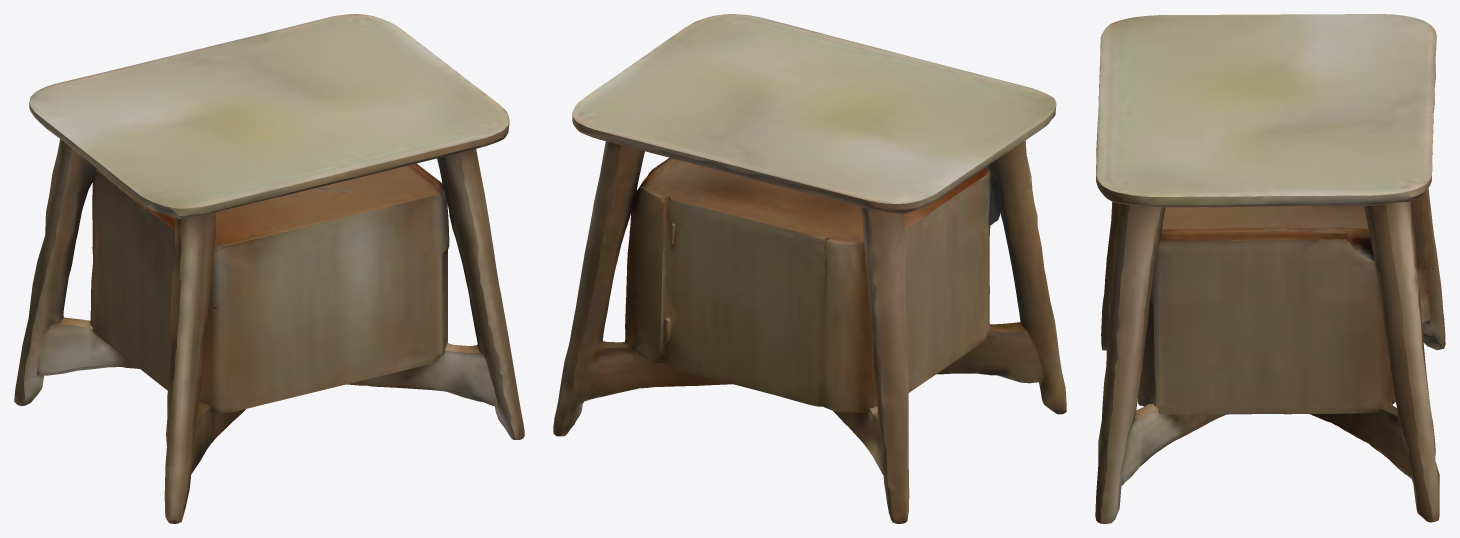
3 views of the same model, side by side, from view 1: azimuth 30°, elevation 25°; view 2: azimuth 150°, elevation 25°; view 3: azimuth 270°, elevation 25° (orthographic). The views are drawn at different scales.
Parts seen in each view (by area): view 1: world; view 2: world; view 3: world.
Boxes of the visible parts, x1,y1,x2,y2 form: world: (14,14,524,523); world: (553,14,1066,523); world: (1095,14,1445,523).
Size of the model in its own units: 0.161 by 0.1355 by 0.1281.
Materials: 1 (1 with a texture image).
